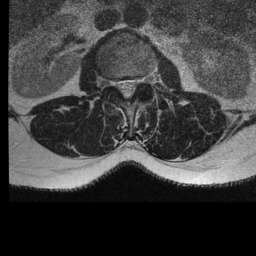CCS_normal: (123, 73, 130, 110)
LFS_normal: (137, 71, 144, 90)
LLS_normal: (130, 73, 137, 97)
RFS_normal: (109, 73, 115, 94)
RLS_normal: (115, 75, 123, 98)
